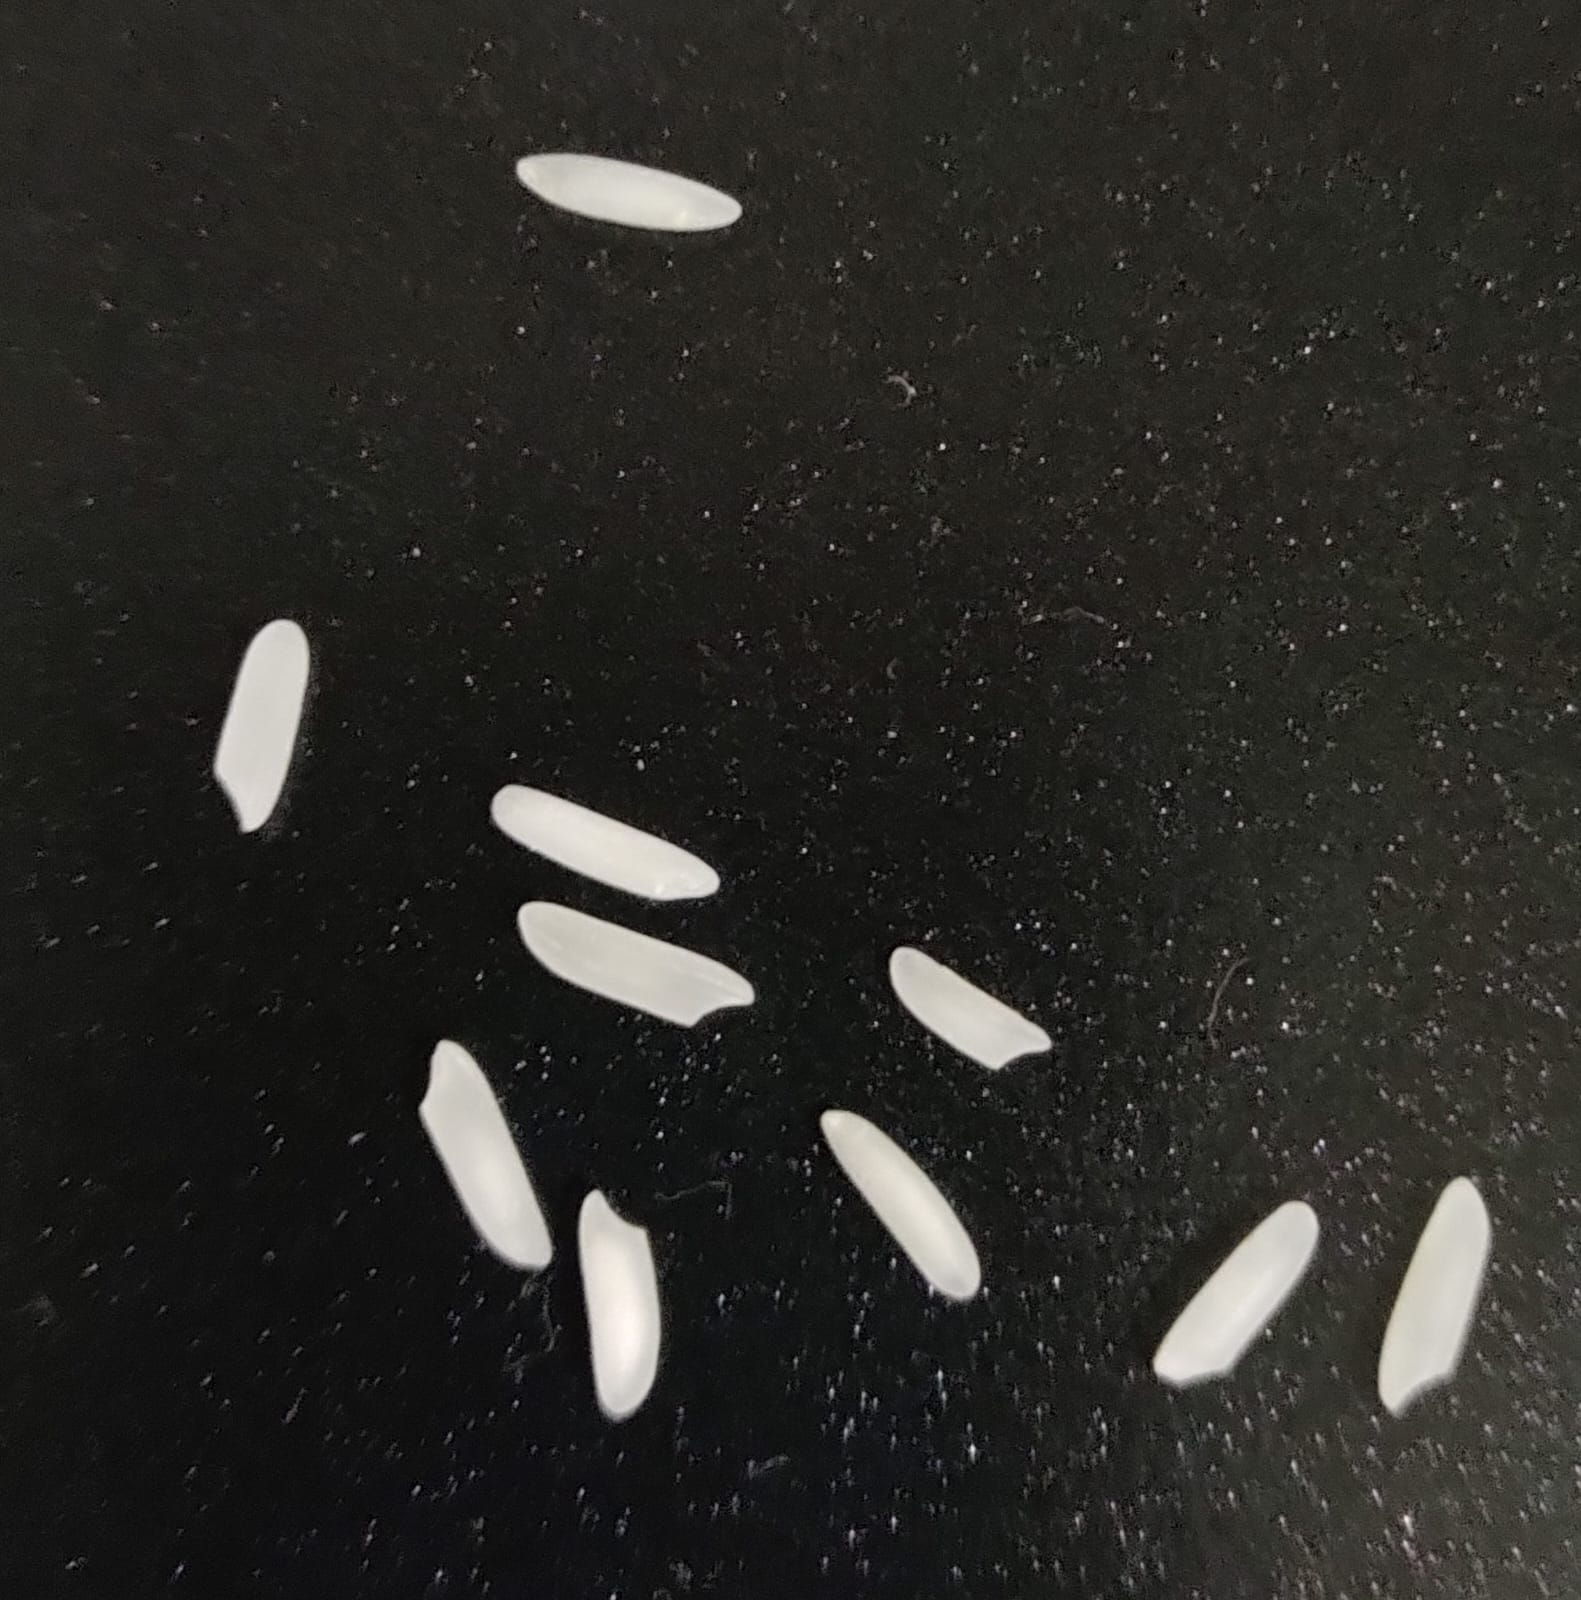complete_grain: (503, 887, 761, 1045), (1149, 1180, 1329, 1406), (815, 1095, 994, 1316), (409, 1028, 558, 1283), (1374, 1150, 1497, 1425), (483, 772, 727, 907), (571, 1172, 680, 1430), (206, 600, 315, 843), (886, 930, 1058, 1080), (512, 143, 750, 251)
